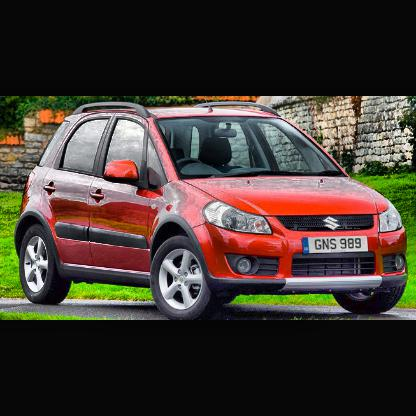Suzuki SX4 Hatchback 2012: (16, 101, 409, 319)
